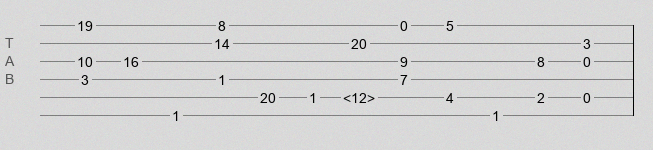0: (400, 18, 408, 28), (583, 54, 591, 64), (583, 90, 591, 100)
1: (172, 108, 180, 118), (218, 72, 226, 82), (309, 90, 317, 100), (492, 108, 500, 118)
10: (77, 54, 93, 64)
14: (214, 36, 230, 46)
16: (123, 54, 139, 64)
19: (77, 18, 93, 28)
2: (537, 90, 545, 100)
20: (260, 90, 276, 100), (351, 36, 367, 46)
3: (81, 72, 89, 82), (583, 36, 591, 46)
4: (446, 90, 454, 100)
5: (446, 18, 454, 28)
7: (400, 72, 408, 82)
8: (218, 18, 226, 28), (537, 54, 545, 64)
9: (400, 54, 408, 64)
harmonic: (343, 90, 375, 100)
